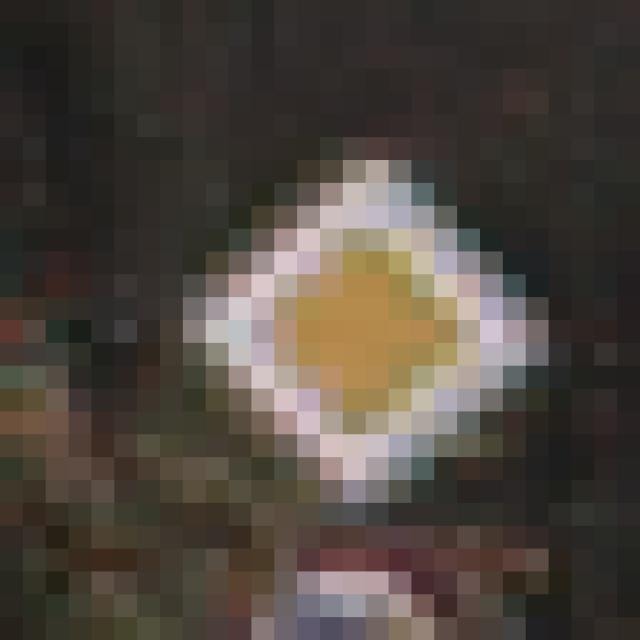Main Road: (138, 115, 504, 504)
